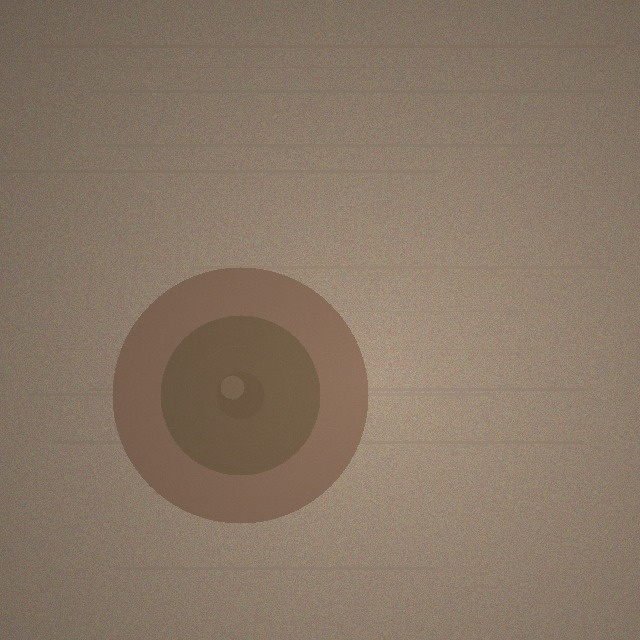good: (112, 267, 368, 523)
